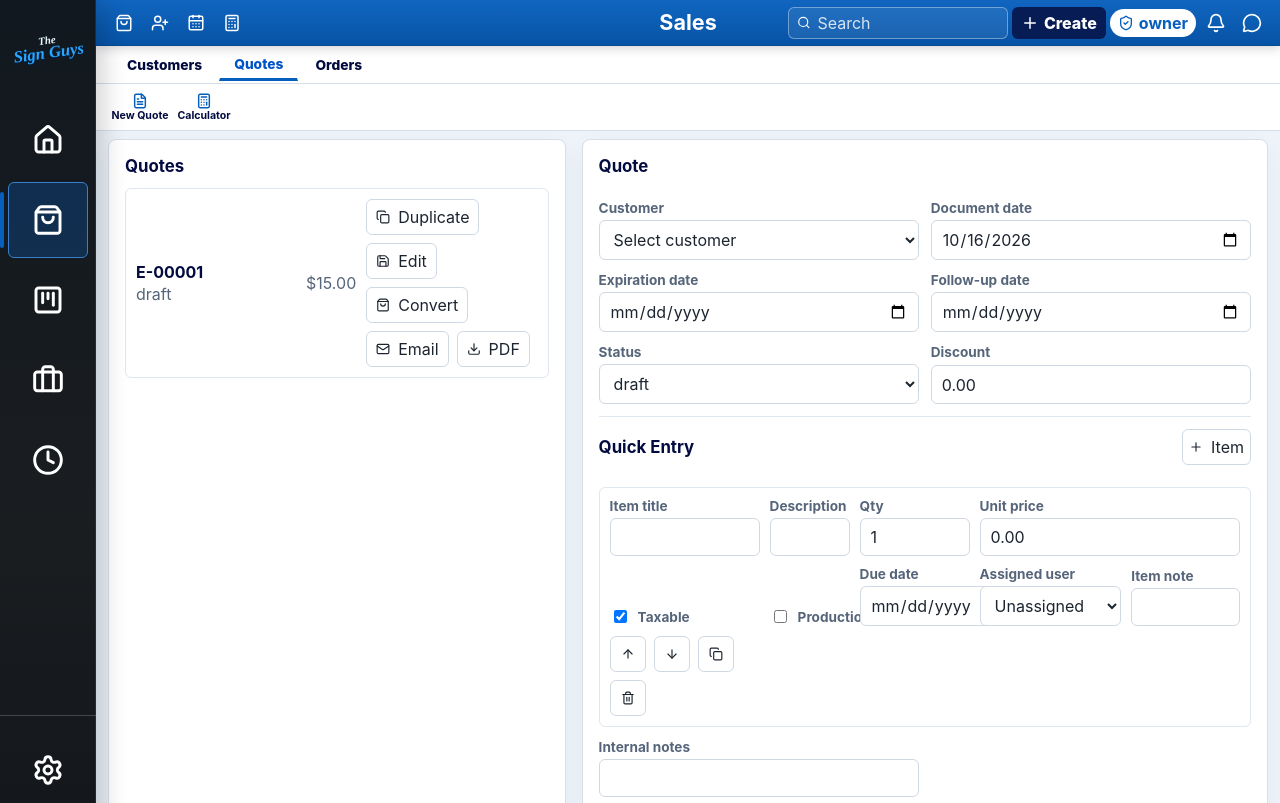
Part 2 UI › enables the Quote customer selector for creation and disables it for editing
The width and height of the screenshot is (1280, 803).
Expected: the dropdown labelled "Customer" is enabled, x1=599 y1=220 x2=919 y2=260
Click the button "Edit" at (401, 261), box x1=366 y1=243 x2=437 y2=279
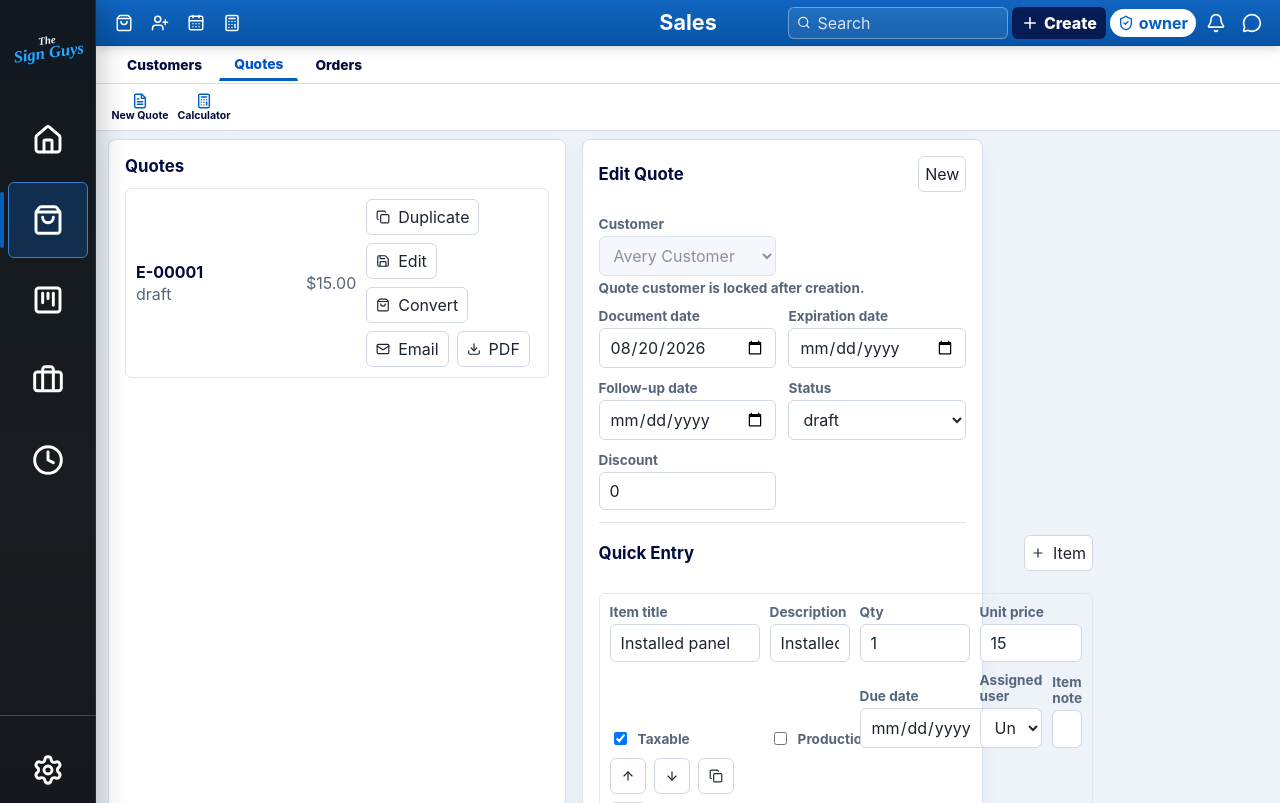
Result: the text "Quote customer is locked after creation." is shown at x1=599 y1=280 x2=864 y2=296
Result: the dropdown labelled "Customer" is disabled at x1=599 y1=236 x2=776 y2=276
